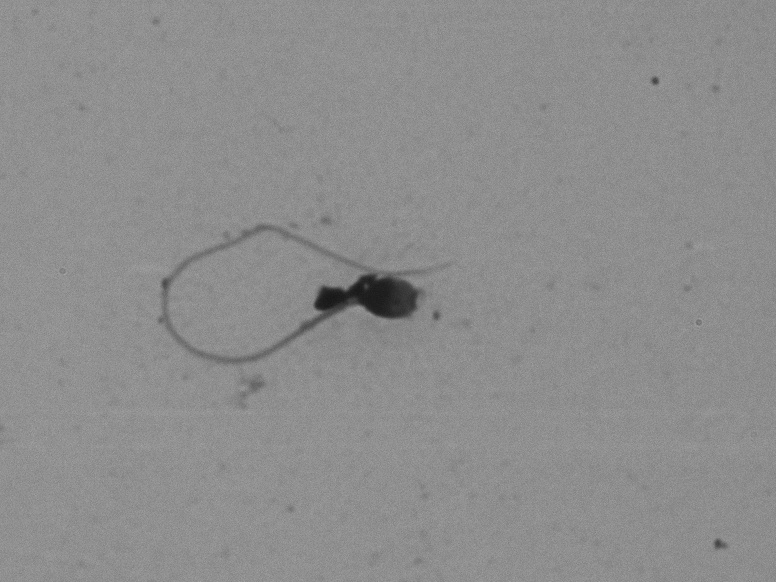Abnormal: (122, 181, 490, 387)
